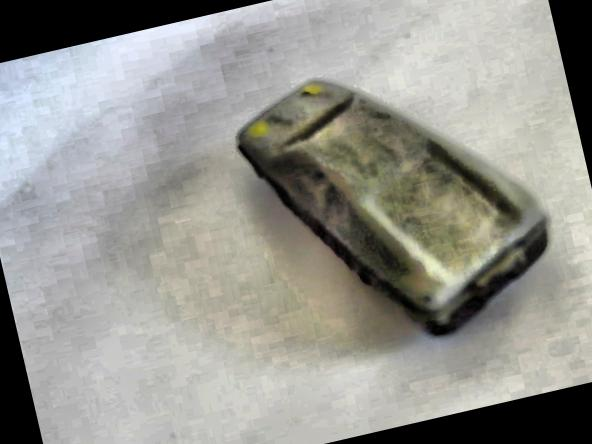normal_car: (221, 28, 574, 376)
